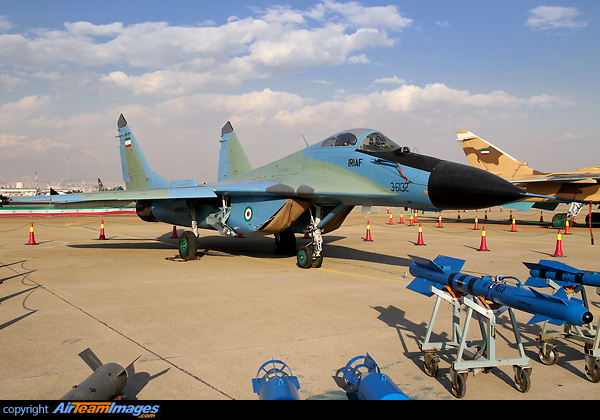Iran: (243, 205, 254, 222), (122, 136, 135, 149)
Mig-29: (38, 90, 533, 286)
